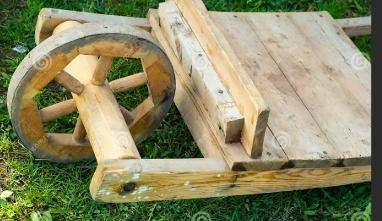BROUETTE: (7, 1, 382, 221)
